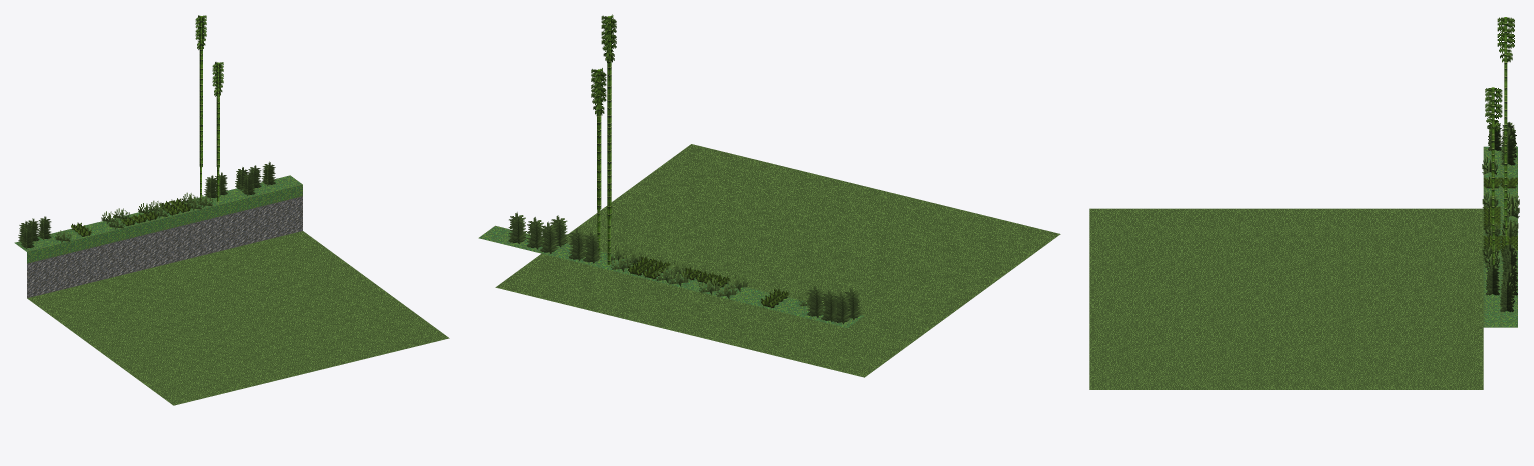
Rendered from chunk25-0-lvl-1-transformed.glb.
3 renders of one model, left to right at view 1: azimuth 30°, elevation 25°; view 2: azimuth 150°, elevation 25°; view 3: azimuth 270°, elevation 25°, orthographic. The views are drawn at different scales.
Visible parts, largest first — view 1: Grass_Block, Tuff, Moss_Block, Large_Fern, Bamboo, Grass, Potato; view 2: Grass_Block, Large_Fern, Moss_Block, Bamboo, Grass, Potato; view 3: Grass_Block, Moss_Block, Bamboo, Large_Fern, Grass, Potato.
Part boxes in pixels (bbox=[...]): Grass_Block: bbox=[27, 231, 449, 405]; Tuff: bbox=[27, 196, 302, 298]; Moss_Block: bbox=[14, 175, 302, 263]; Large_Fern: bbox=[18, 161, 275, 248]; Bamboo: bbox=[195, 15, 223, 201]; Grass: bbox=[55, 192, 212, 243]; Potato: bbox=[71, 198, 190, 236]; Grass_Block: bbox=[495, 144, 1060, 377]; Large_Fern: bbox=[508, 212, 861, 323]; Moss_Block: bbox=[478, 225, 864, 328]; Bamboo: bbox=[591, 14, 616, 264]; Grass: bbox=[607, 245, 811, 306]; Potato: bbox=[628, 256, 788, 308]; Grass_Block: bbox=[1089, 208, 1483, 389]; Moss_Block: bbox=[1483, 146, 1517, 327]; Bamboo: bbox=[1485, 17, 1514, 264]; Large_Fern: bbox=[1486, 122, 1517, 312]; Grass: bbox=[1482, 157, 1519, 267]; Potato: bbox=[1483, 176, 1517, 253].
Bounding box in the file's own units: 25.02 × 24 × 25.1.
Materials: 11 (11 with a texture image).
